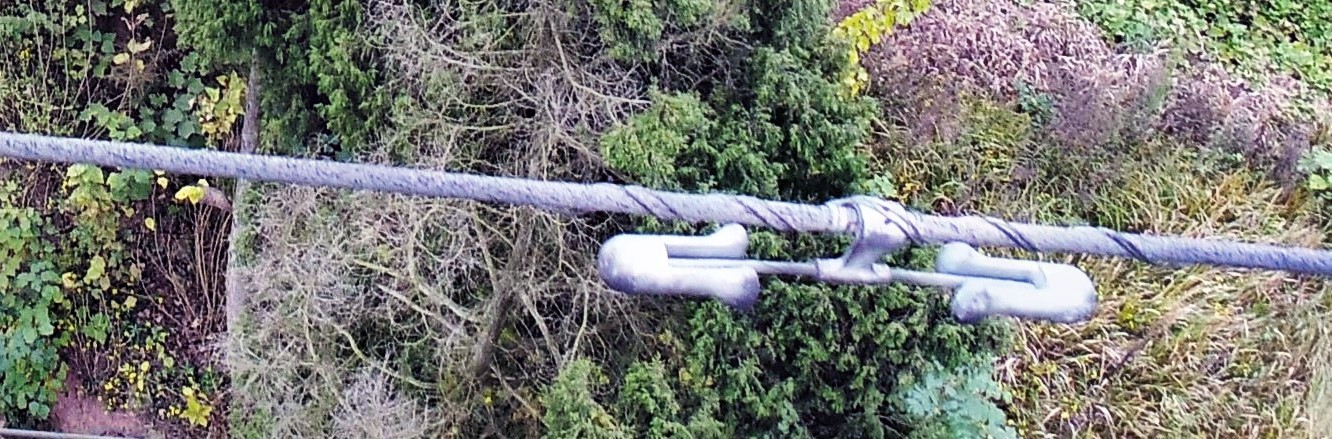Shockproof hammer: (586, 169, 1103, 338)
